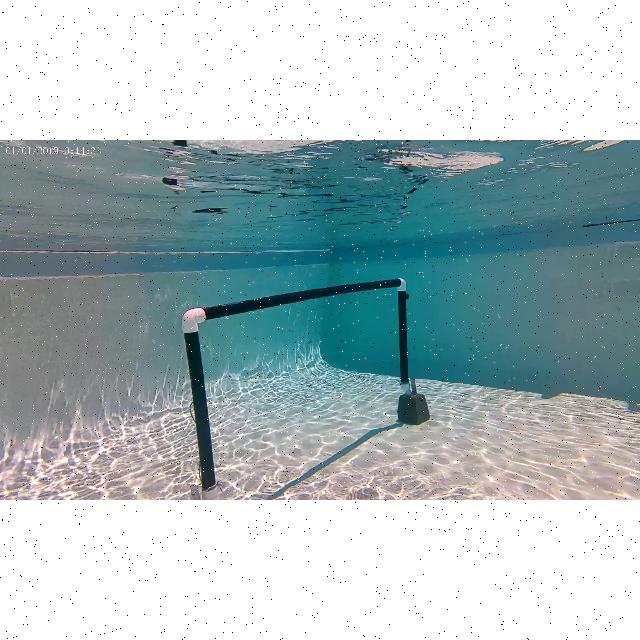prequal gate: (183, 278, 407, 500)
prequal gate leg l: (177, 310, 220, 500)
prequal gate leg r: (387, 276, 431, 424)
